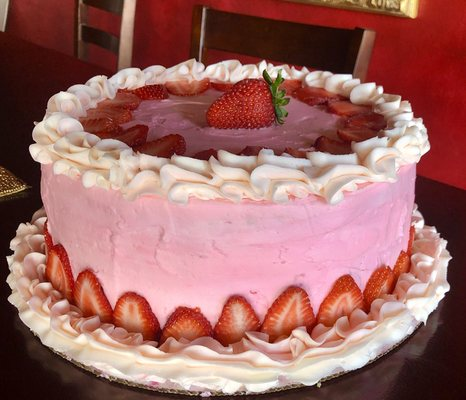pasta: (189, 2, 378, 81)
sushi: (28, 54, 454, 391)
